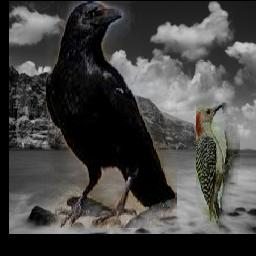Crow: (45, 1, 176, 228)
Woodpecker: (196, 104, 240, 234)
